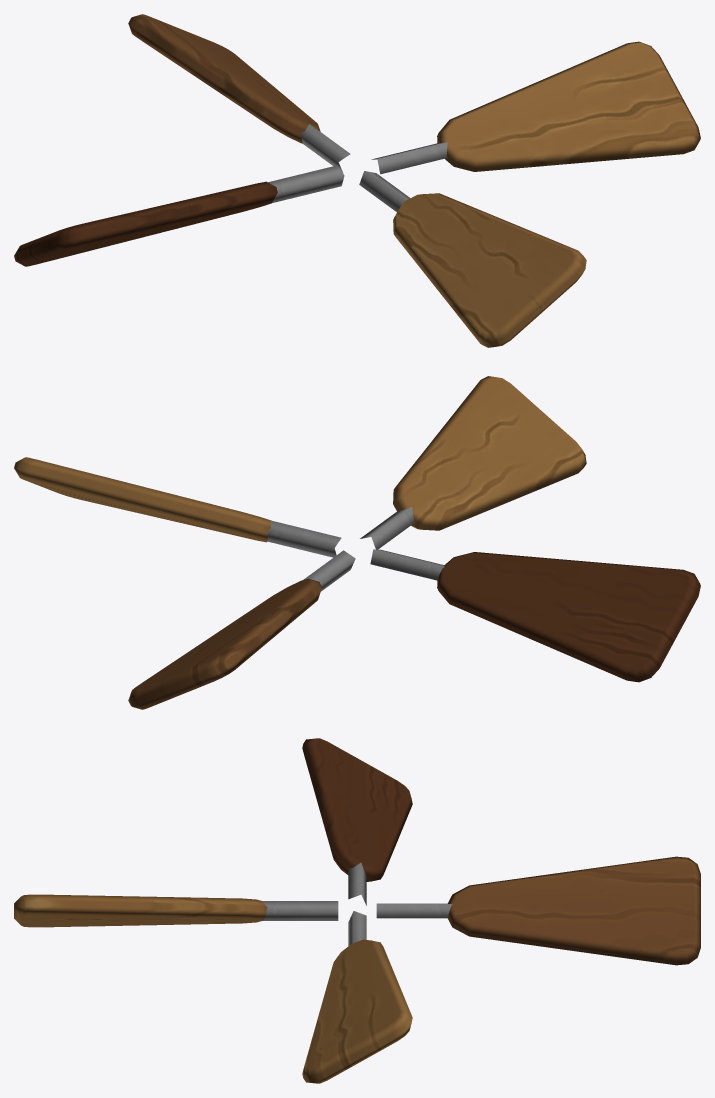
The model's file is fuelTop.gltf.
The picture shows the model from 3 angles, top to bottom: view 1: azimuth 30°, elevation 25°; view 2: azimuth 150°, elevation 25°; view 3: azimuth 270°, elevation 25°; orthographic projection. The views are drawn at different scales.
Visible parts, largest first — view 1: Cube; view 2: Cube; view 3: Cube.
Part boxes in pixels (left/top/right/bottom): Cube: left=14, top=14, right=700, bottom=347; Cube: left=14, top=376, right=700, bottom=709; Cube: left=14, top=738, right=700, bottom=1083.
Size of the model in its own units: 1.06 by 0.1167 by 1.06.
2 materials, 2 textured.
